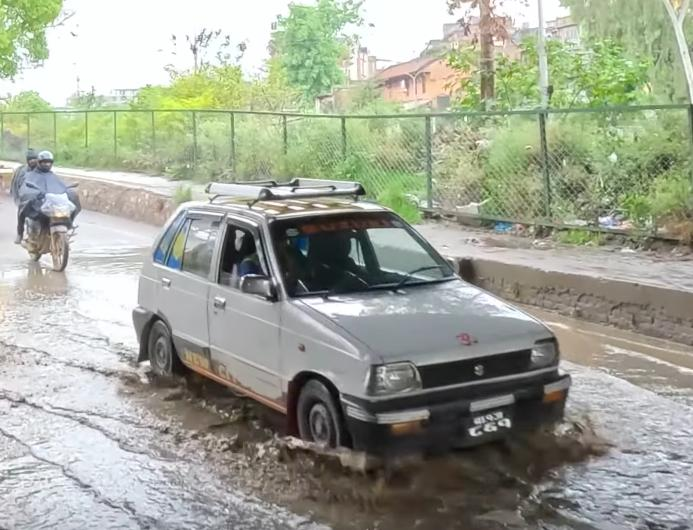bike: (12, 178, 91, 277)
taxi: (125, 174, 589, 460)
